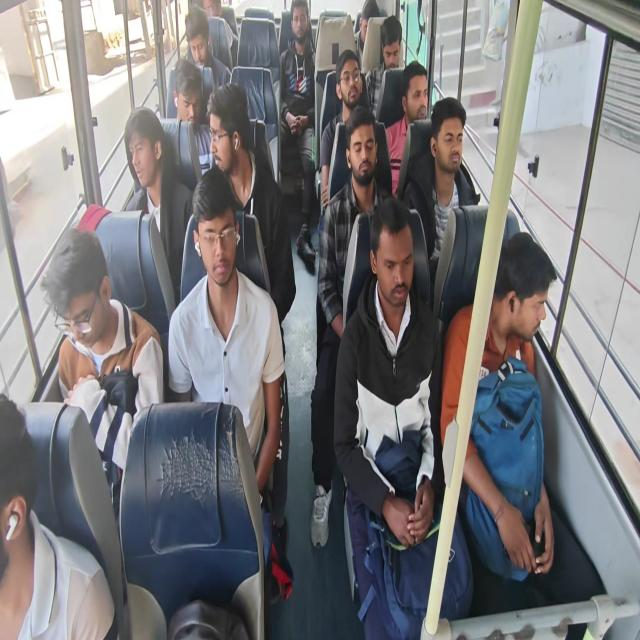person: (440, 230, 606, 634), (332, 195, 473, 638), (167, 165, 290, 597), (310, 105, 392, 548), (40, 225, 164, 511), (0, 392, 117, 639), (205, 82, 296, 327), (123, 107, 194, 306), (402, 96, 469, 292), (278, 0, 316, 272), (319, 49, 371, 212), (166, 6, 231, 122), (384, 60, 429, 196), (123, 106, 167, 234), (366, 15, 403, 116), (202, 0, 238, 70), (172, 59, 203, 123), (354, 0, 379, 68), (380, 15, 402, 70)
